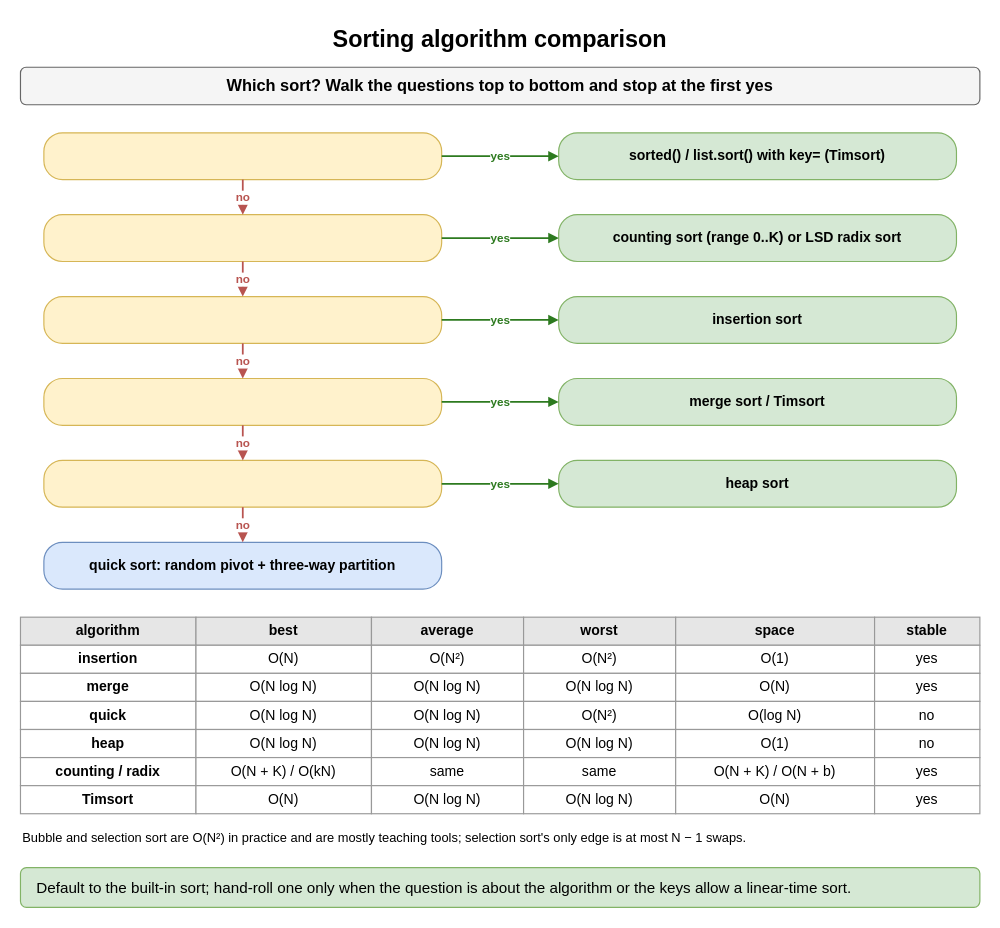
Some shapes in this 1000 by 928 pixel diagram are drawn without their labels. The shapes that lost their labels are listed below. From the top down, each one's box as (x1, y1, x2, y2) in pixels, then its label:
(43, 132, 442, 180): Python code, not asked about the algorithm?
(43, 214, 442, 261): Keys are small or fixed-width integers?
(43, 295, 442, 343): Tiny or nearly sorted input?
(43, 377, 442, 425): Need stability and a guaranteed O(N log N)?
(43, 459, 442, 507): Need O(1) extra space and a hard worst case?
